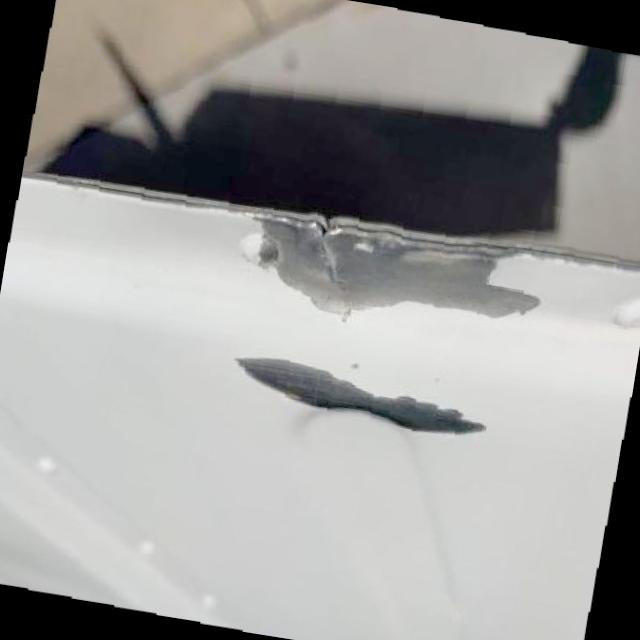crack: (298, 221, 351, 295)
